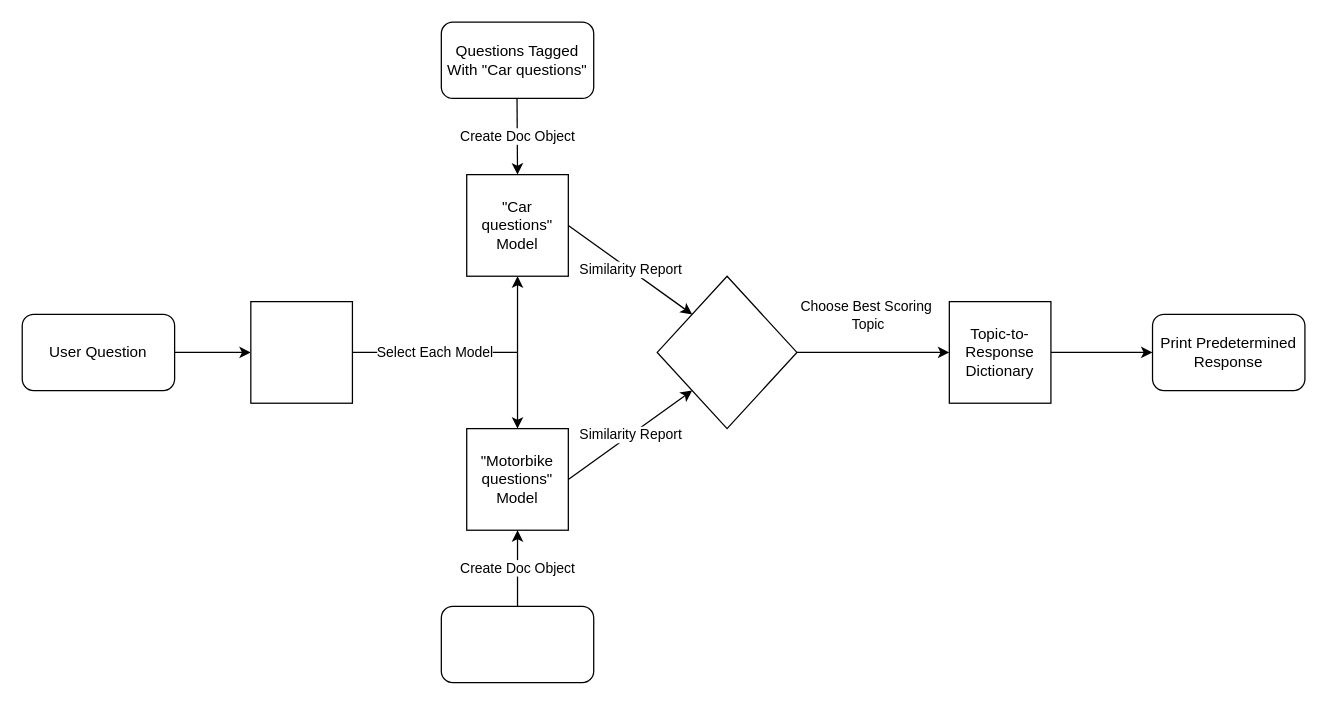
This 1327x705 diagram has some shape labels left out. The shapes that lost their labels are listed below. From the top down, each one's centre as x and y in pixels, then its label:
point 301,351: Model Array
point 726,352: Score Comparitor
point 517,644: Questions Tagged With "Motorbike questions"
